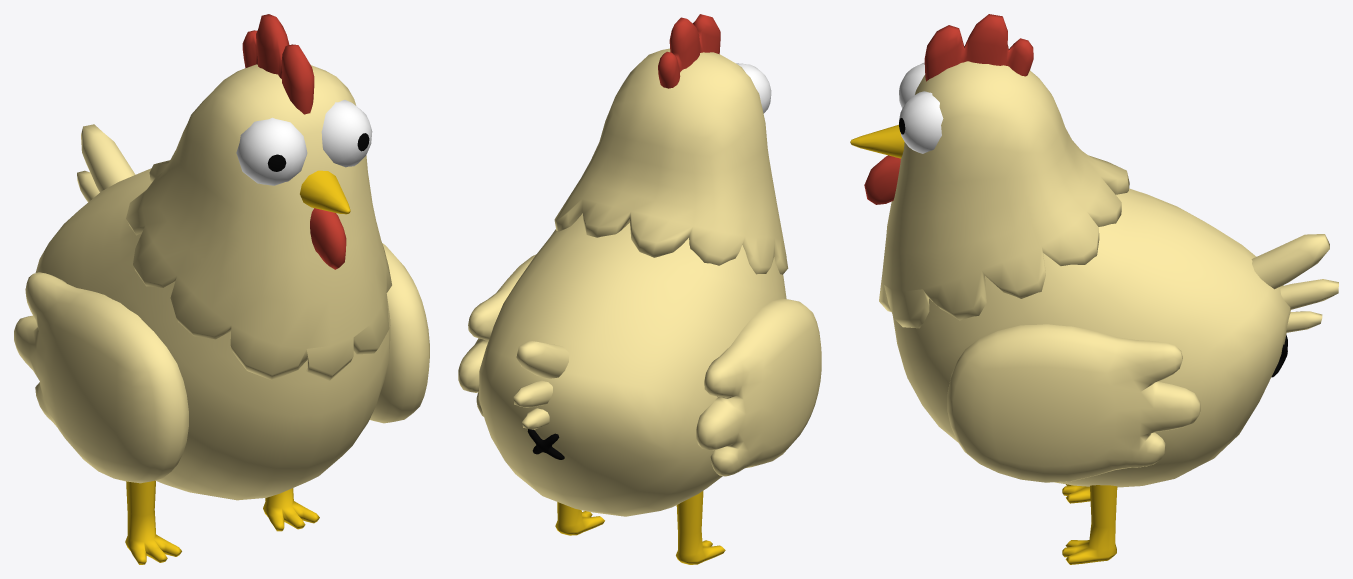
The model's file is Chicken.fbx.
The picture shows the model from 3 angles, left to right: view 1: azimuth 30°, elevation 25°; view 2: azimuth 150°, elevation 25°; view 3: azimuth 270°, elevation 25°; orthographic projection. The views are drawn at different scales.
Parts seen in each view (by area): view 1: Long_ga_ngoai, hennude; view 2: Long_ga_ngoai, hennude; view 3: Long_ga_ngoai, hennude.
Boxes of the visible parts, bbox=[...] form: Long_ga_ngoai: bbox=[14, 124, 429, 500]; hennude: bbox=[125, 14, 391, 564]; Long_ga_ngoai: bbox=[458, 213, 821, 516]; hennude: bbox=[527, 14, 788, 564]; Long_ga_ngoai: bbox=[892, 188, 1338, 487]; hennude: bbox=[850, 14, 1287, 564].
Size of the model in its own units: 125 by 204 by 177.
